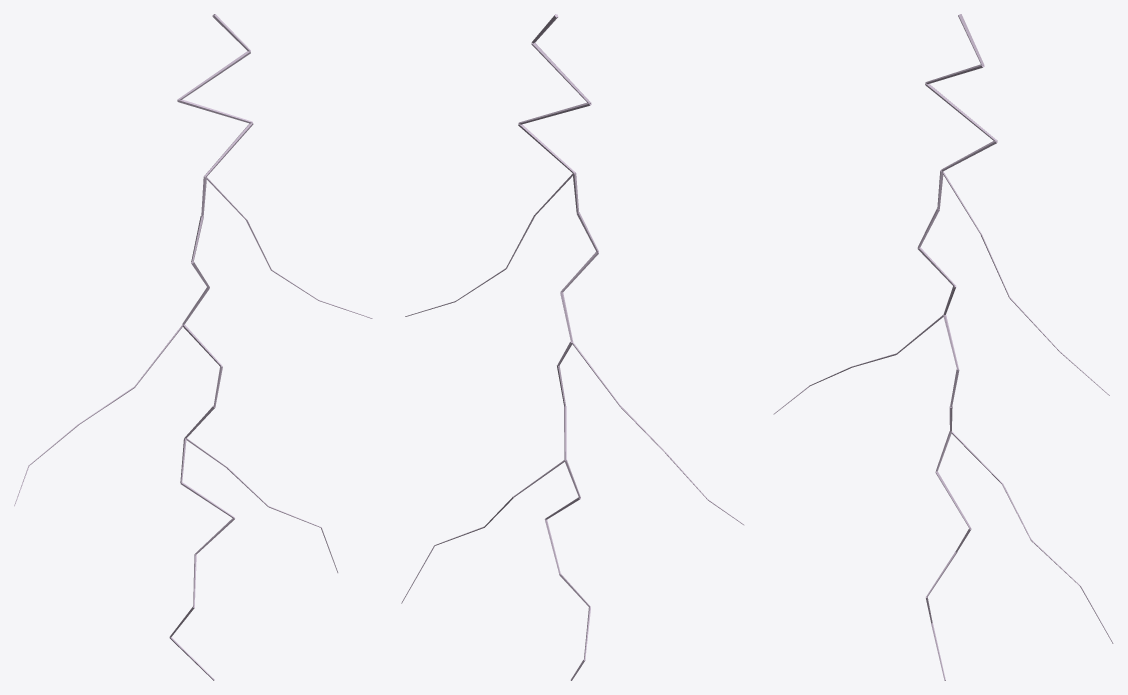
Rendered from lightning42b_0.glb.
3 views of the same model, side by side, from view 1: azimuth 30°, elevation 25°; view 2: azimuth 150°, elevation 25°; view 3: azimuth 330°, elevation 25° (orthographic).
Size of the model in its own units: 225 by 409 by 31.98.
